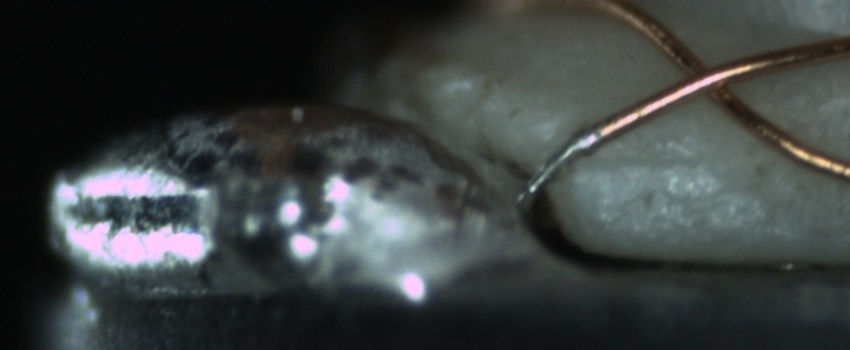CL: (663, 43, 753, 111)
DL: (582, 131, 711, 188)
TS: (524, 127, 601, 199)
TTCW: (521, 100, 638, 197)
